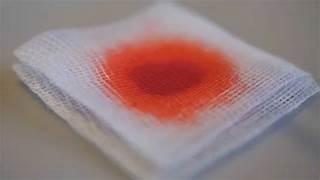cotton: (14, 4, 318, 178), (101, 35, 242, 121)
